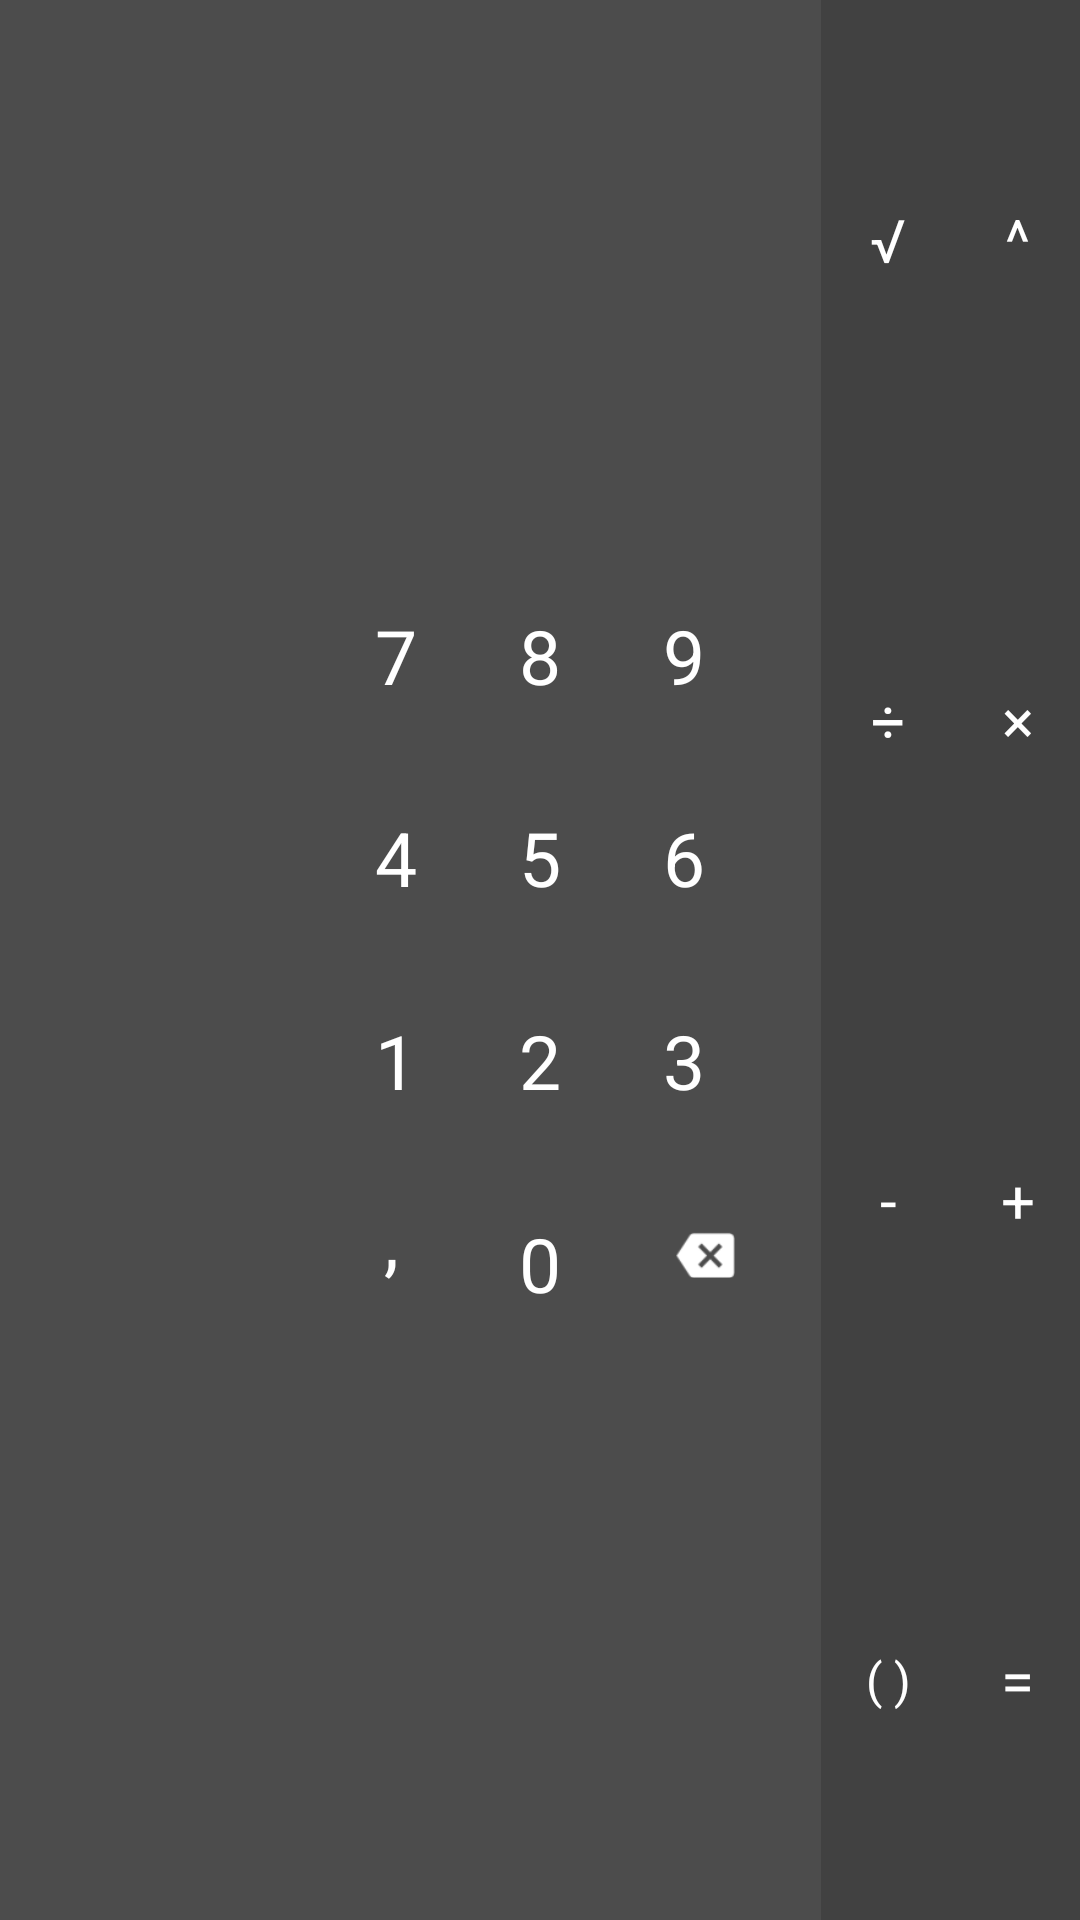

Where to tap for icons on this 1080*1920 app screen, as (x=x, y=y):
backspace: (x=705, y=1255)
